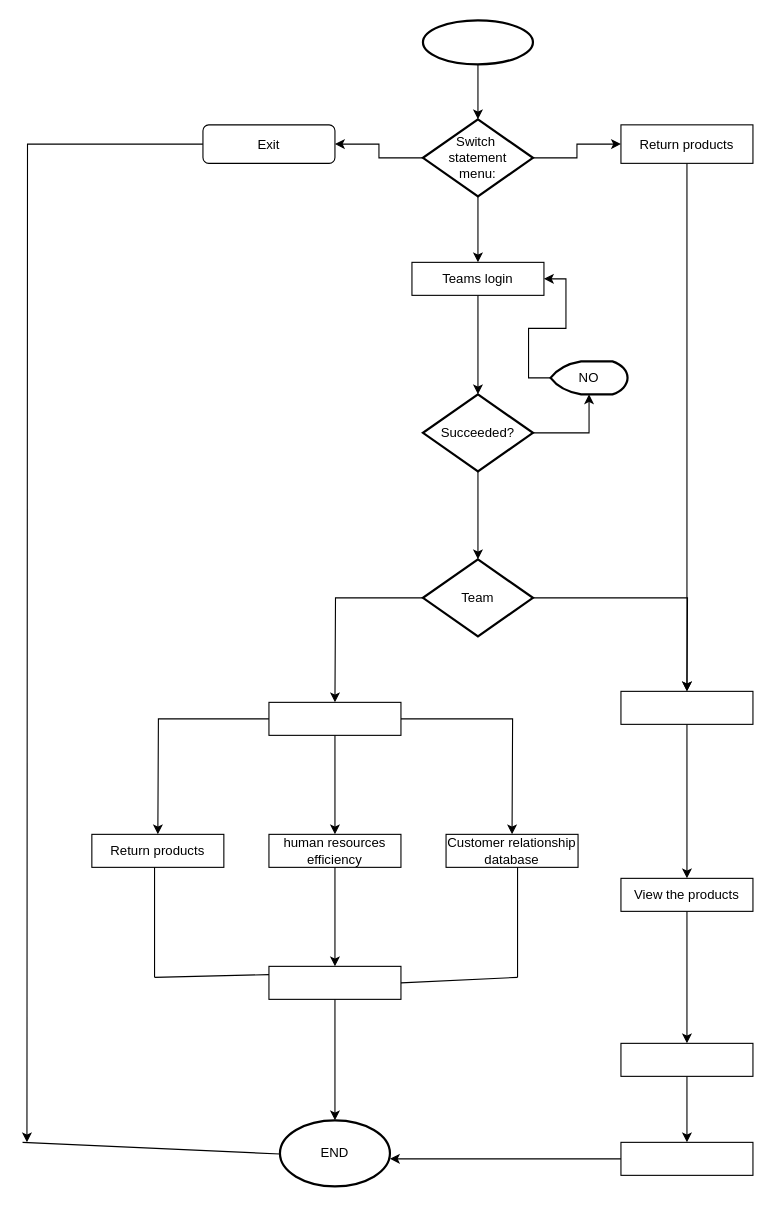
This 772x1206 diagram has some shape labels left out. The shapes that lost their labels are listed below. From the top down, each one's centre as x and y in pixels, then its label:
the point at 477,42: Start
the point at 334,718: Mainmenu
the point at 686,707: User page
the point at 334,982: Logout
the point at 686,1059: Add to the cart
the point at 686,1158: buy Products
